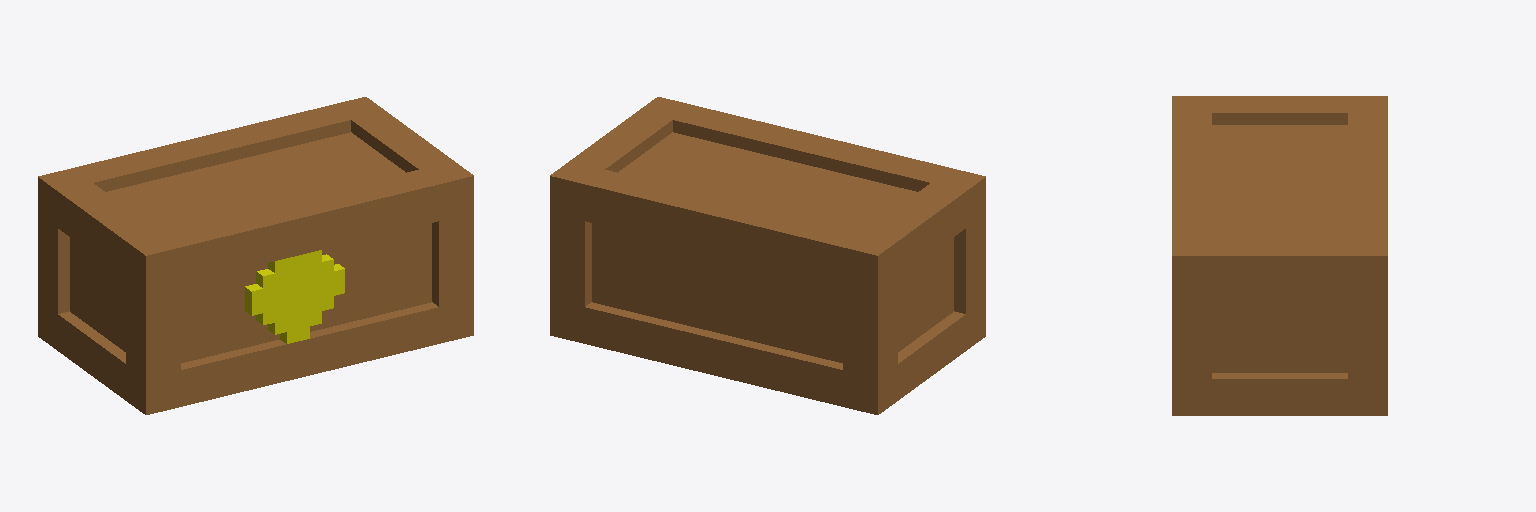
3 views of the same model, side by side, from view 1: azimuth 30°, elevation 25°; view 2: azimuth 150°, elevation 25°; view 3: azimuth 270°, elevation 25° (orthographic).
Visible parts, largest first — view 1: object 1; view 2: object 1; view 3: object 1.
Part boxes in pixels (left/top/right/bottom): object 1: left=38, top=97, right=473, bottom=414; object 1: left=550, top=97, right=985, bottom=414; object 1: left=1172, top=96, right=1387, bottom=415.
Size of the model in its own units: 2.8 by 1.3 by 1.6.
Materials: 1 (1 with a texture image).